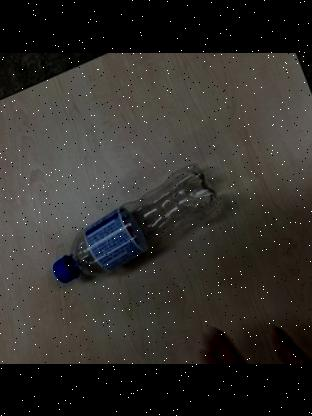Plastic Bottle: (48, 164, 228, 284)
